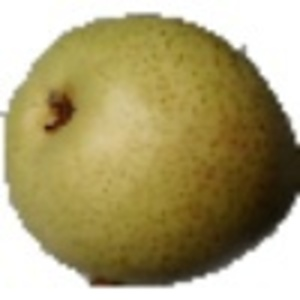pera: (1, 11, 300, 290)
